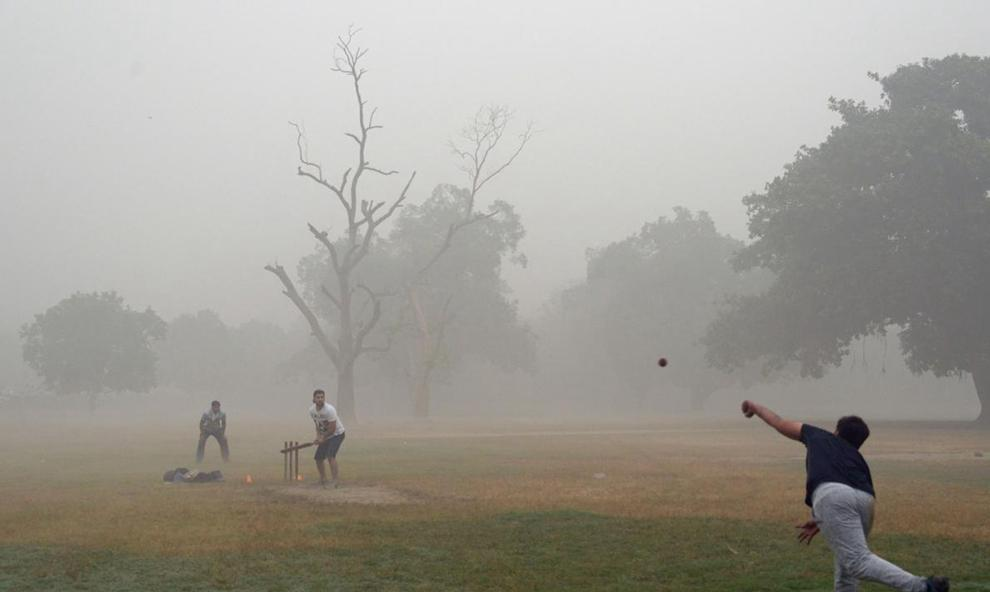person: (737, 392, 953, 592), (307, 387, 347, 494), (195, 399, 232, 467)
